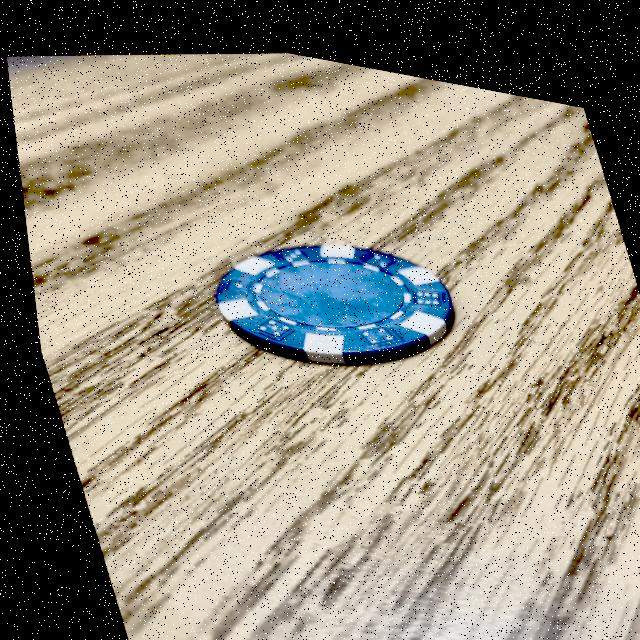Chip: (181, 186, 468, 396)
